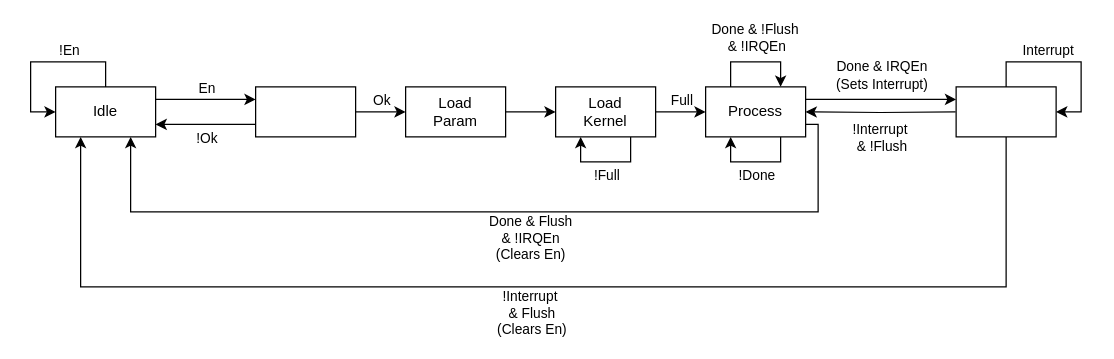
This 1114x359 diagram has some shape labels left out. Each missing label, with the centre of its shape:
IRQ: point (1005, 111)
Validate Param: point (305, 111)
